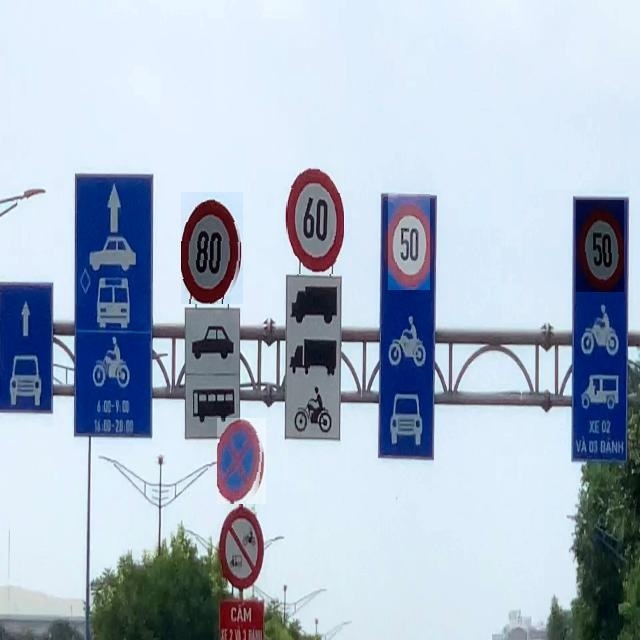bien_hieu_lenh: (286, 153, 344, 274), (181, 192, 243, 304), (576, 200, 624, 292), (217, 418, 266, 504), (388, 194, 430, 290)
